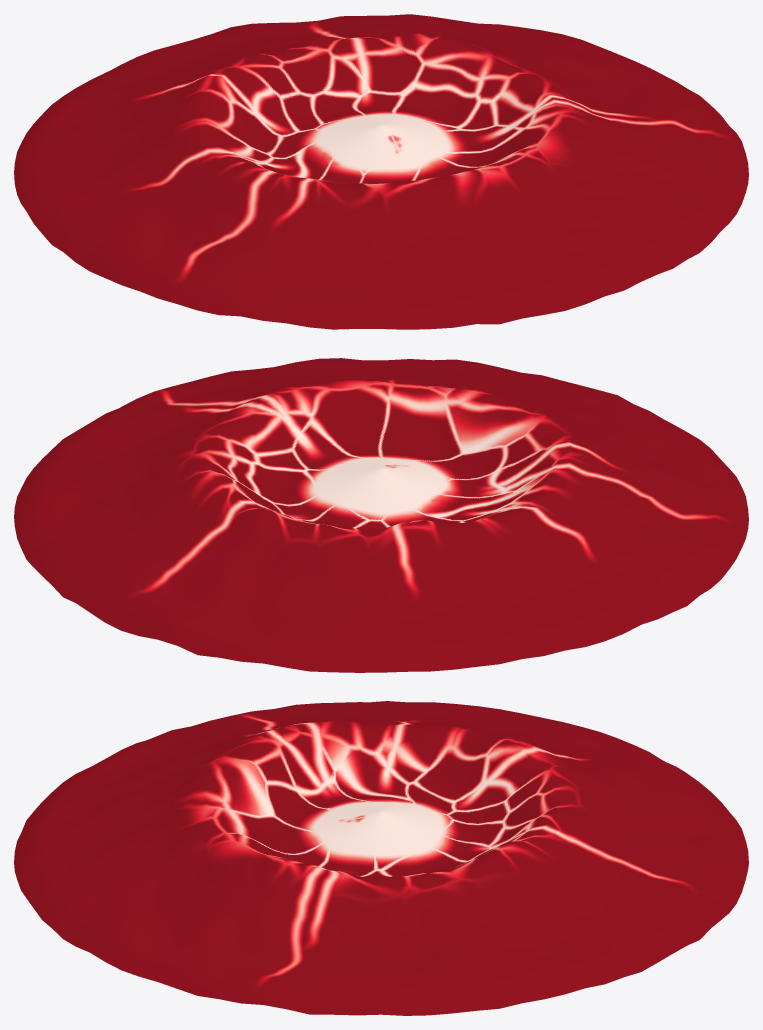
The model's file is magma_crimson.glb.
3 views of the same model, one above another, from view 1: azimuth 30°, elevation 25°; view 2: azimuth 150°, elevation 25°; view 3: azimuth 270°, elevation 25° (orthographic).
Parts seen in each view (by area): view 1: magma; view 2: magma; view 3: magma.
Boxes of the visible parts, x1,y1,x2,y2 form: magma: (14,14,748,329); magma: (14,358,748,672); magma: (14,701,748,1015).
Bounding box in the file's own units: 4 × 0.4326 × 4.
1 material, 1 textured.
